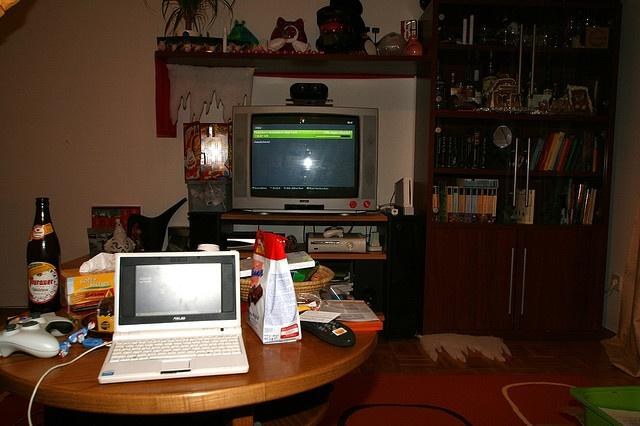AIO PC-Monitor-TV: (232, 104, 379, 212)
